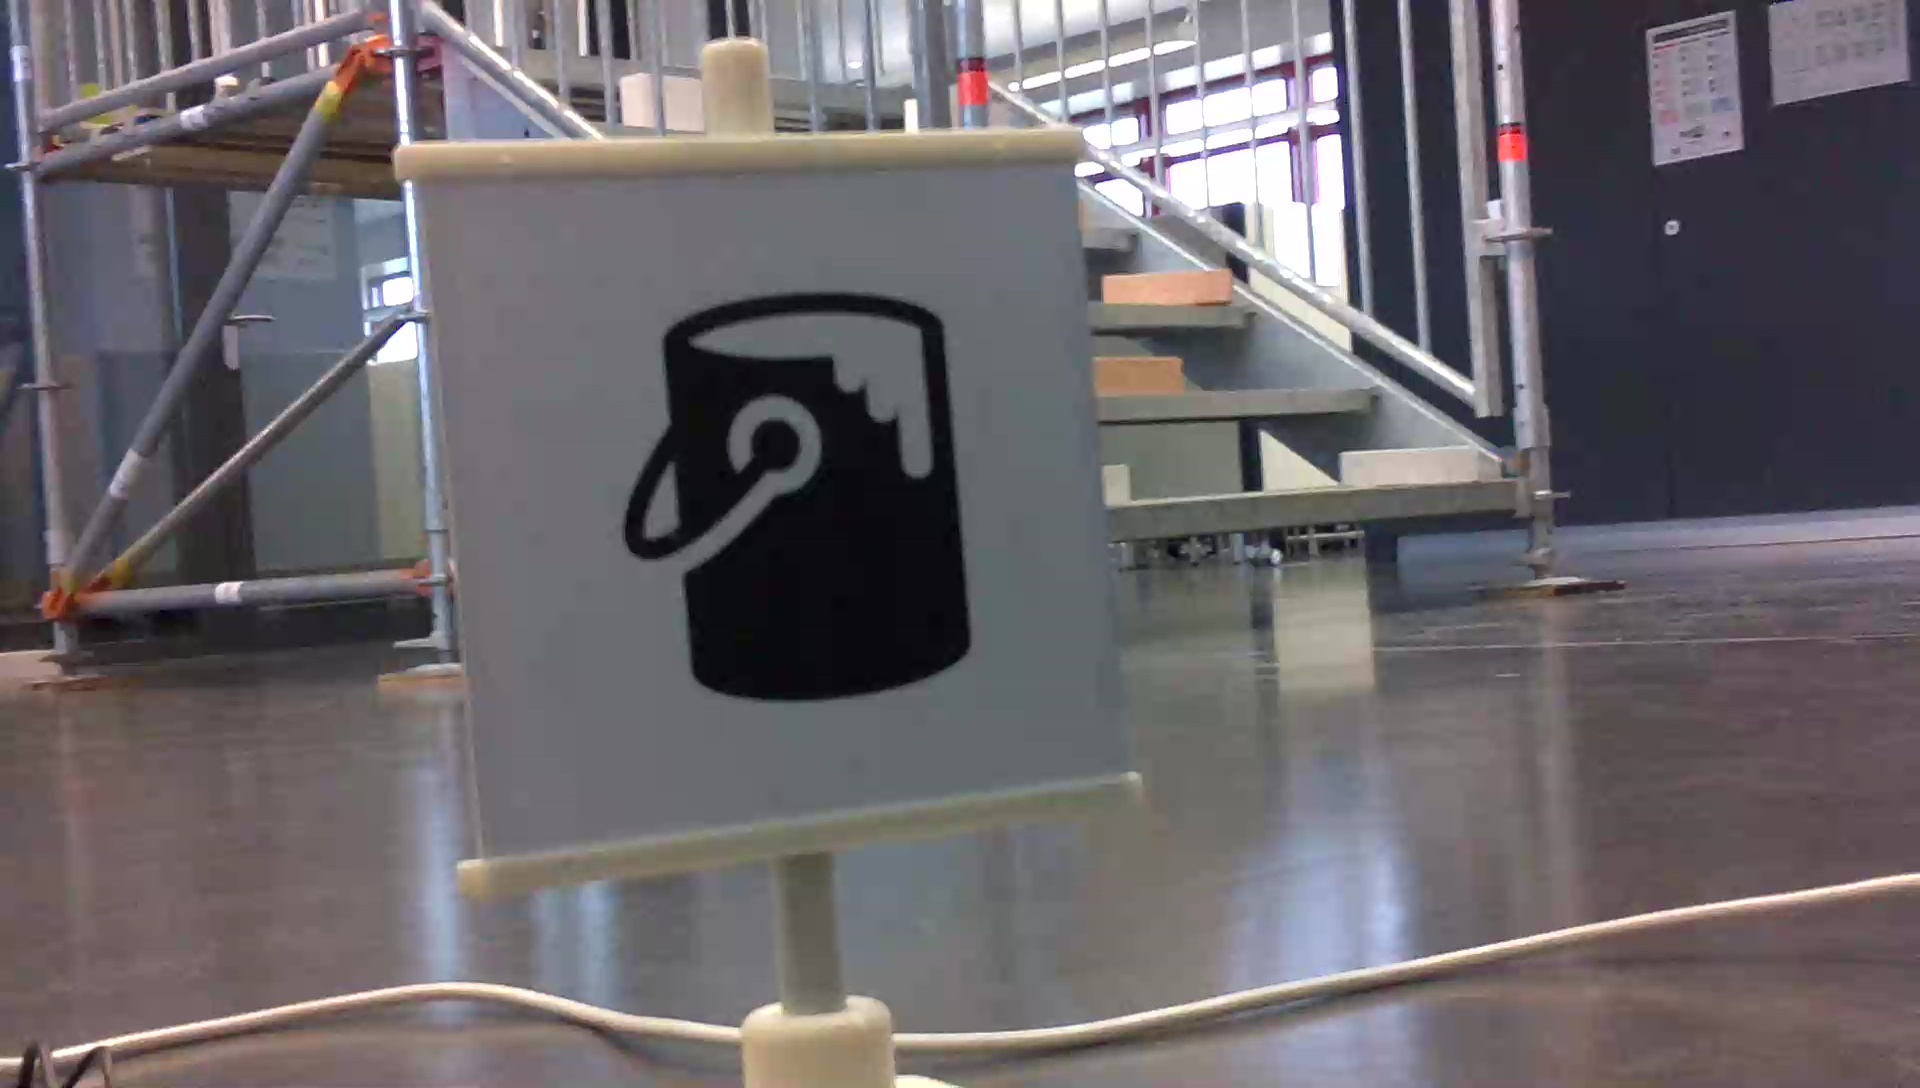brick: (1342, 446, 1481, 481), (1102, 270, 1233, 302), (1091, 360, 1182, 393), (1105, 466, 1127, 500)
bucket: (617, 280, 988, 712)
edge: (1110, 483, 1513, 542), (1096, 382, 1382, 418), (1085, 299, 1262, 324), (1077, 228, 1142, 253)
